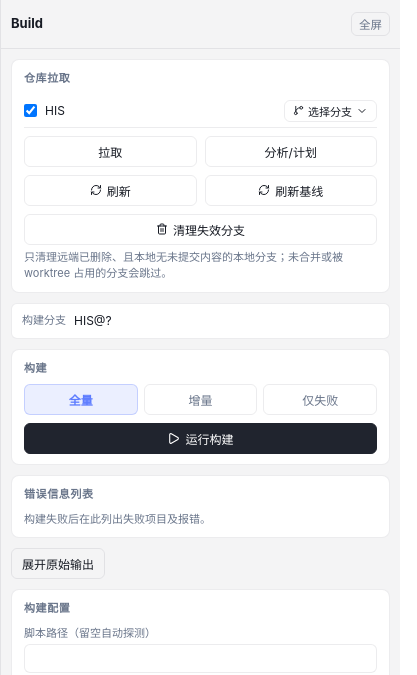
Test: BuildPanel branch switching › switches to a remote branch and promotes it to the local group after checkout
The width and height of the screenshot is (417, 675).
Expected: the text "选择分支" is shown, [308,102,352,118]
Open the menu: remote branches are grouped under "远端".
Click the button "选择分支": x=330, y=110 [284,100,377,122]
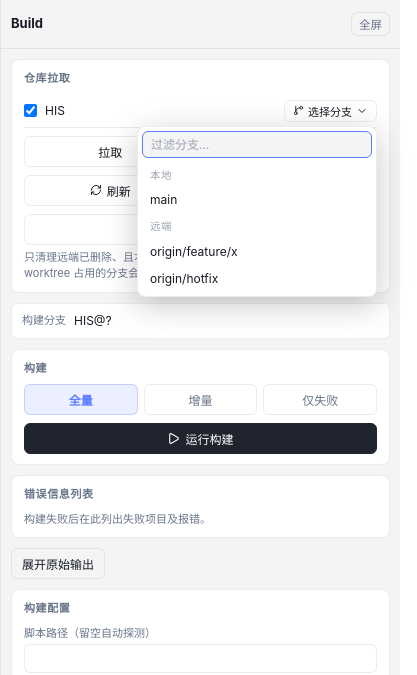
Click the button "origin/feature/x": x=257, y=252 [142,238,372,265]
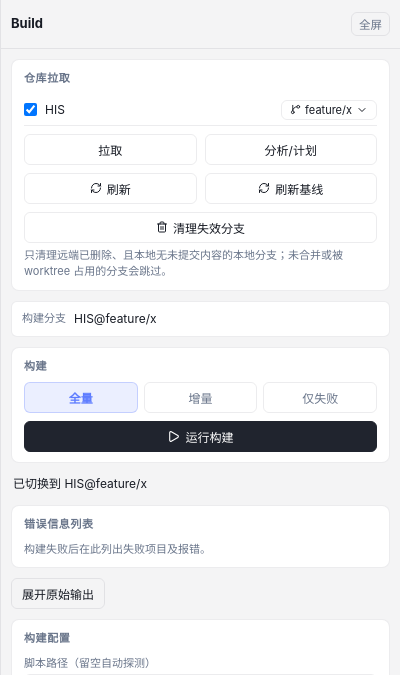
Now the text "feature/x" is shown, box [305,102,352,116]
Reopen: the landed branch moved into the local group, the remote entry is gone.
Click the button "feature/x": x=329, y=110 [281,100,377,120]
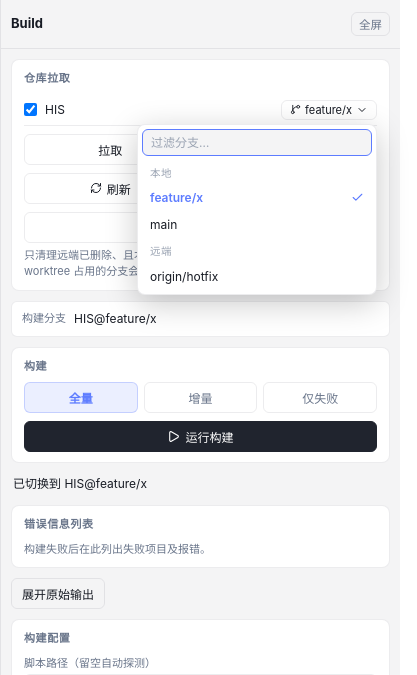
Now the text "本地" is shown, box [150,166,172,180]
Now the text "远端" is shown, box [150,245,172,258]
Now the text "main" is shown, box [150,217,177,232]
